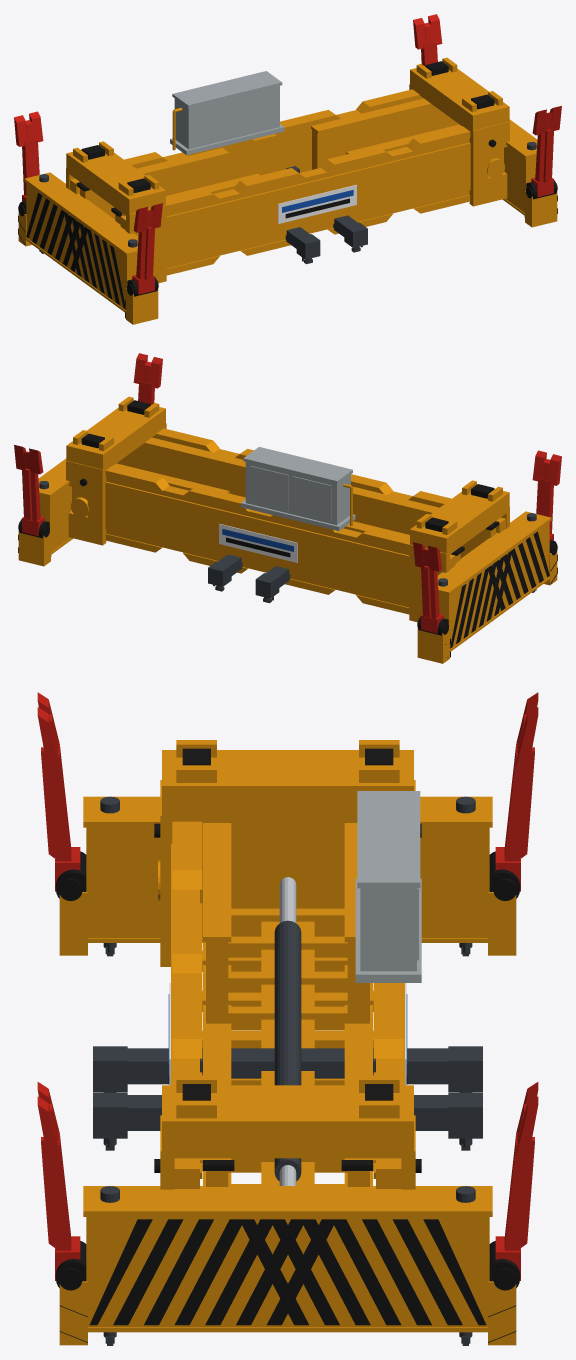
The model's file is STS_Spreader_20ft_Retracted.obj.
The picture shows the model from 3 angles, top to bottom: view 1: azimuth 30°, elevation 25°; view 2: azimuth 150°, elevation 25°; view 3: azimuth 270°, elevation 25°; orthographic projection. The views are drawn at different scales.
Visible parts, largest first — view 1: 01_Main_Center_Frame, 06_End_Beam_Left, 04_Hydraulic_Electrical_Cabinet, 05_Telescopic_Arm_Right, 05_Telescopic_Arm_Left, 07_Hazard_Stripes_Left, 06_End_Beam_Right, 10_Red_Flipper_L_Front, 10_Red_Flipper_R_Front, 02_TwinLift_Center_Module, 03_WearPads_And_Guides, 10_Red_Flipper_L_Back (+3 smaller); view 2: 01_Main_Center_Frame, 06_End_Beam_Left, 04_Hydraulic_Electrical_Cabinet, 05_Telescopic_Arm_Right, 07_Hazard_Stripes_Left, 05_Telescopic_Arm_Left, 06_End_Beam_Right, 10_Red_Flipper_L_Back, 10_Red_Flipper_R_Back, 02_TwinLift_Center_Module, 03_WearPads_And_Guides, 10_Red_Flipper_L_Front (+3 smaller); view 3: 01_Main_Center_Frame, 06_End_Beam_Right, 06_End_Beam_Left, 07_Hazard_Stripes_Right, 02_TwinLift_Center_Module, 05_Telescopic_Arm_Left, 04_Hydraulic_Electrical_Cabinet, 05_Telescopic_Arm_Right, 10_Red_Flipper_L_Back, 10_Red_Flipper_L_Front, 10_Red_Flipper_R_Back, 10_Red_Flipper_R_Front (+7 smaller).
Boxes of the visible parts, box(x1,y1,x2,y2) form: 01_Main_Center_Frame: box(66, 57, 509, 283); 06_End_Beam_Left: box(18, 172, 158, 324); 04_Hydraulic_Electrical_Cabinet: box(170, 71, 284, 155); 05_Telescopic_Arm_Right: box(311, 98, 461, 169); 05_Telescopic_Arm_Left: box(80, 147, 259, 224); 07_Hazard_Stripes_Left: box(18, 192, 132, 318); 06_End_Beam_Right: box(502, 119, 557, 227); 10_Red_Flipper_L_Front: box(132, 203, 162, 294); 10_Red_Flipper_R_Front: box(531, 106, 561, 197); 02_TwinLift_Center_Module: box(285, 166, 367, 264); 03_WearPads_And_Guides: box(76, 61, 496, 218); 10_Red_Flipper_L_Back: box(14, 111, 43, 201); 01_Main_Center_Frame: box(66, 396, 509, 622); 06_End_Beam_Left: box(417, 511, 557, 663); 04_Hydraulic_Electrical_Cabinet: box(241, 447, 355, 530); 05_Telescopic_Arm_Right: box(114, 437, 245, 497); 07_Hazard_Stripes_Left: box(443, 531, 557, 657); 05_Telescopic_Arm_Left: box(343, 486, 495, 563); 06_End_Beam_Right: box(18, 458, 73, 566); 10_Red_Flipper_L_Back: box(413, 542, 443, 633); 10_Red_Flipper_R_Back: box(14, 445, 44, 536); 02_TwinLift_Center_Module: box(208, 554, 290, 603); 03_WearPads_And_Guides: box(79, 400, 499, 557); 10_Red_Flipper_L_Front: box(532, 450, 561, 540); 01_Main_Center_Frame: box(158, 740, 415, 1189); 06_End_Beam_Right: box(59, 1186, 516, 1345); 06_End_Beam_Left: box(59, 796, 516, 955); 07_Hazard_Stripes_Right: box(59, 1219, 516, 1342); 02_TwinLift_Center_Module: box(93, 920, 482, 1181); 05_Telescopic_Arm_Left: box(203, 823, 372, 1030); 04_Hydraulic_Electrical_Cabinet: box(355, 791, 421, 982); 05_Telescopic_Arm_Right: box(203, 1023, 372, 1186); 10_Red_Flipper_L_Back: box(495, 692, 538, 891); 10_Red_Flipper_L_Front: box(37, 692, 80, 891); 10_Red_Flipper_R_Back: box(495, 1082, 538, 1280); 10_Red_Flipper_R_Front: box(37, 1082, 80, 1280).
Bounding box in the file's own units: 6.25 × 1.95 × 3.18.
